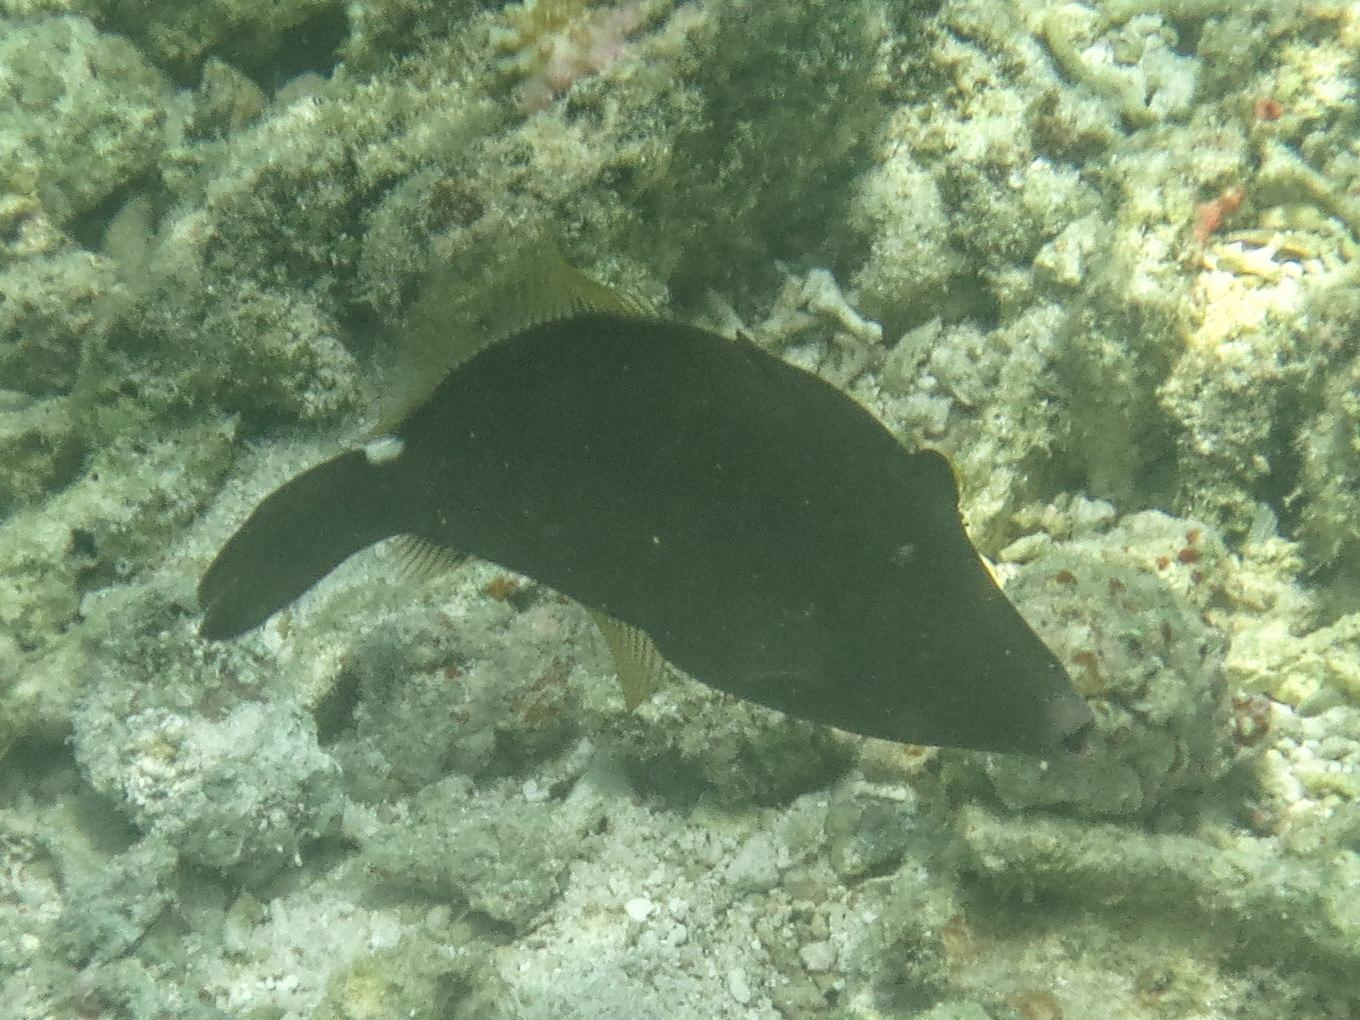Fish: (158, 212, 1115, 772)
